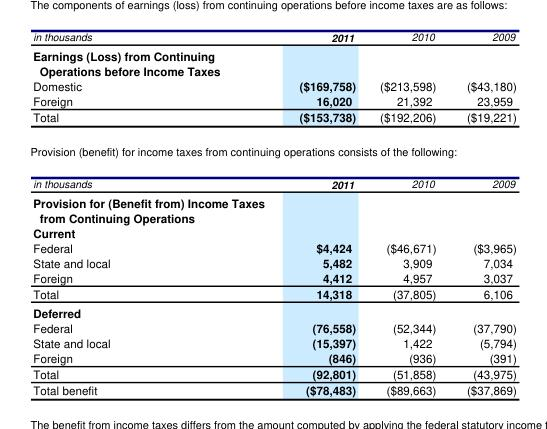table: (29, 29, 515, 397)
table column: (29, 29, 204, 397), (204, 29, 367, 397), (367, 29, 450, 397), (450, 29, 515, 397)
table column header: (29, 29, 515, 45)
table projected row header: (29, 192, 515, 239), (29, 133, 515, 167), (29, 45, 515, 78), (29, 302, 515, 320)
table row: (29, 192, 515, 239), (29, 133, 515, 167), (29, 45, 515, 78), (29, 108, 515, 133), (29, 167, 515, 192), (29, 302, 515, 320), (29, 285, 515, 302), (29, 29, 515, 45), (29, 92, 515, 108), (29, 269, 515, 285), (29, 365, 515, 381), (29, 381, 515, 397), (29, 239, 515, 254), (29, 254, 515, 269), (29, 320, 515, 335), (29, 335, 515, 350), (29, 350, 515, 365), (29, 78, 515, 92)
